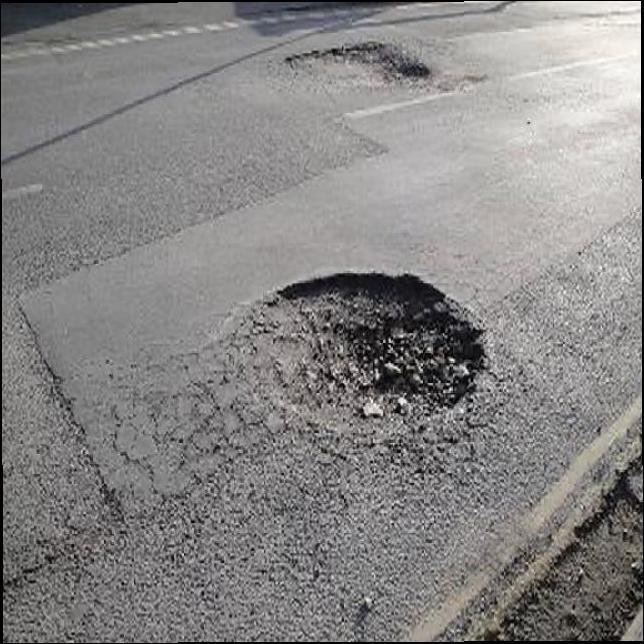Lubang: (255, 268, 479, 428), (293, 46, 432, 83)
